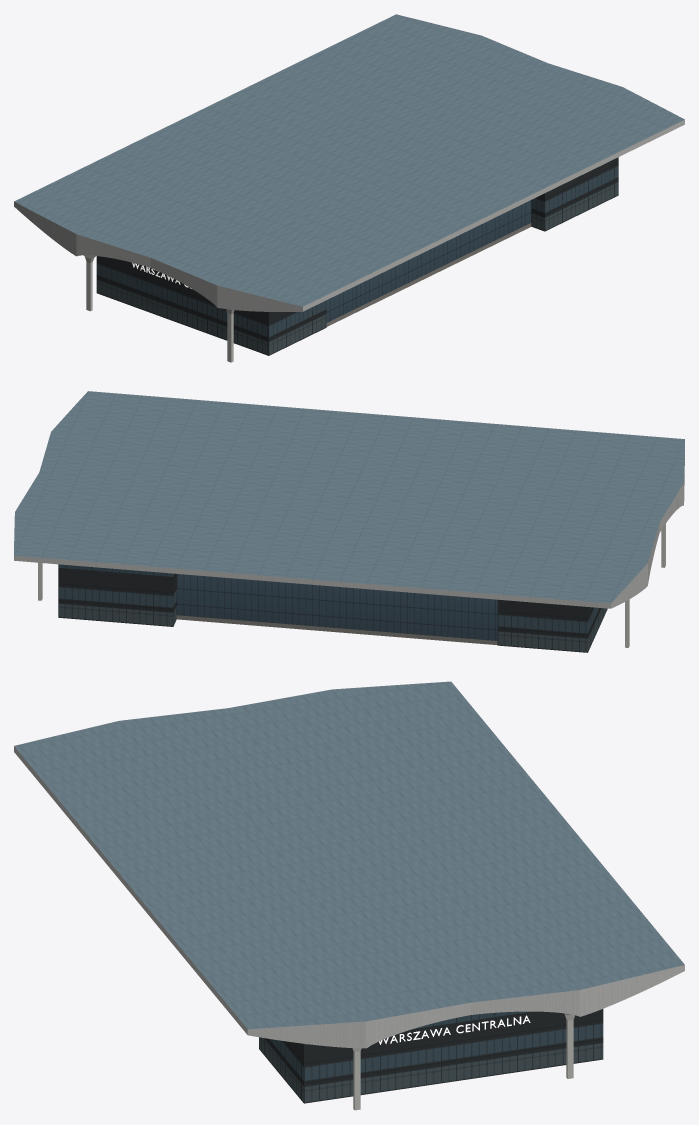
The model's file is centralna.glb.
The picture shows the model from 3 angles, top to bottom: view 1: azimuth 30°, elevation 25°; view 2: azimuth 150°, elevation 25°; view 3: azimuth 270°, elevation 25°; orthographic projection. The views are drawn at different scales.
Parts seen in each view (by area): view 1: centralna_dach, centralna_hala, centralna_slupy; view 2: centralna_dach, centralna_hala, centralna_slupy; view 3: centralna_dach, centralna_hala, centralna_slupy.
Part boxes in pixels (box(x1,y1,x2,y2)): centralna_dach: box(14, 14, 684, 311); centralna_hala: box(96, 157, 618, 355); centralna_slupy: box(84, 255, 234, 362); centralna_dach: box(14, 391, 684, 608); centralna_hala: box(58, 564, 607, 652); centralna_slupy: box(38, 524, 665, 647); centralna_dach: box(14, 681, 684, 1048); centralna_hala: box(259, 1009, 603, 1103); centralna_slupy: box(352, 1013, 574, 1110).
Size of the model in its own units: 153 by 20.53 by 125.
9 materials, 6 textured.
